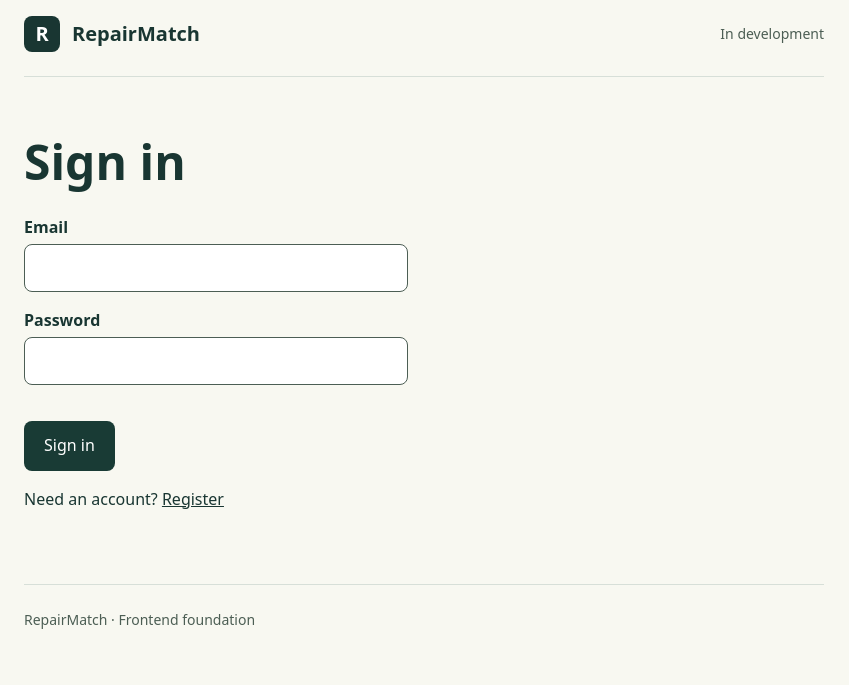
Test: login form › shows field errors and unknown ones from a 400 response
Type "client@example.test" into the field labelled "Email" at (216, 268), box [24,244,408,292]
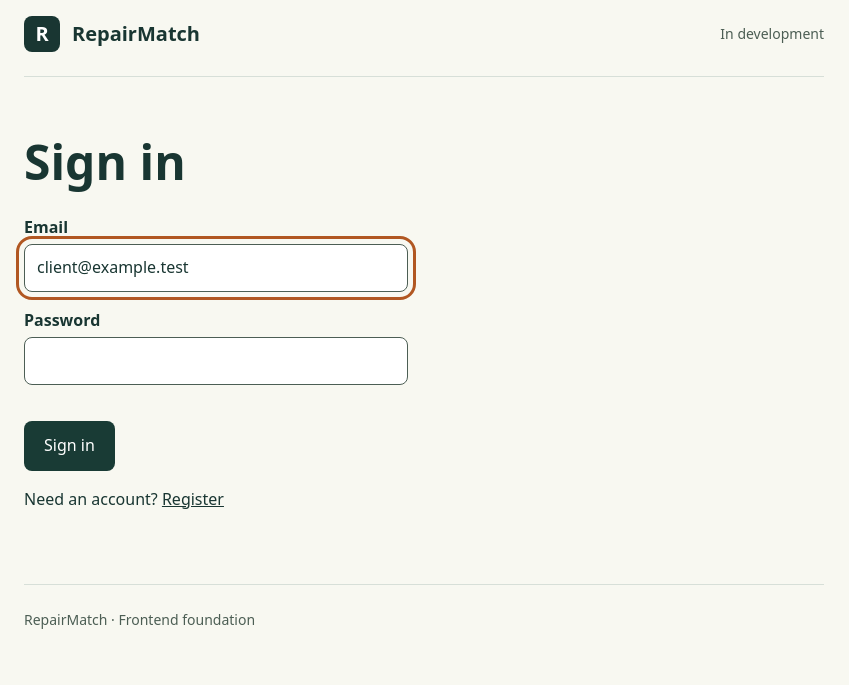
Type "Test-pass-1" into the password field labelled "Password" at (216, 361), box [24,337,408,385]
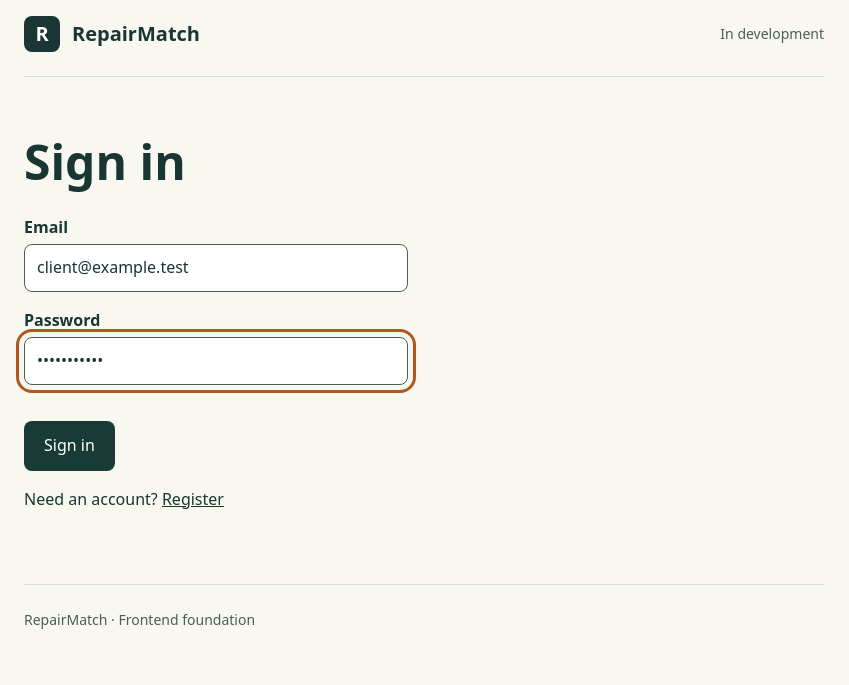
Click the button "Sign in" at (69, 446), box [24,421,115,471]
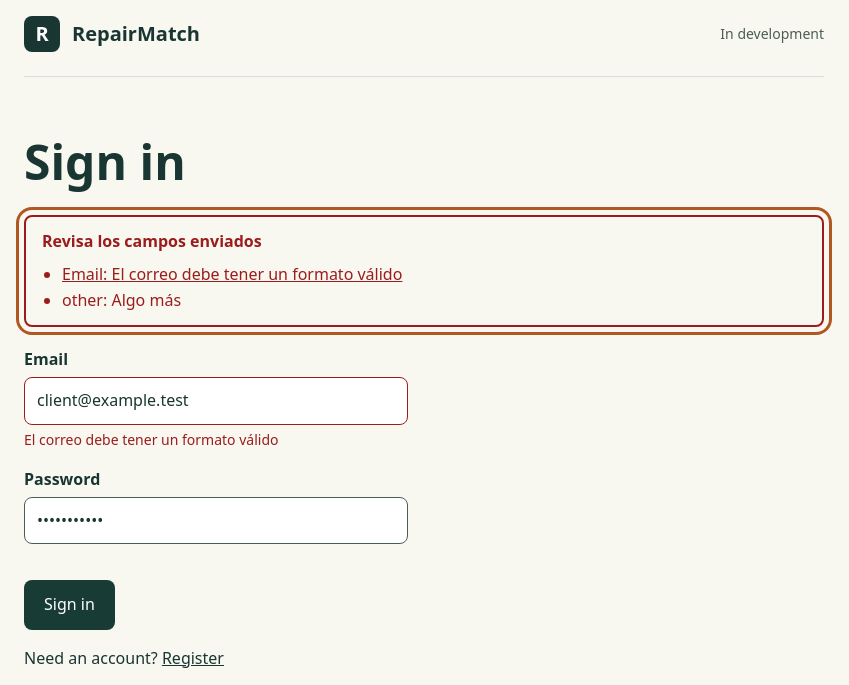
Result: the message shows "Revisa los campos enviados" at [42,230,262,252]
Result: the message shows "Email: El correo debe tener un formato válido" at [62,263,402,285]
Result: the message shows "other: Algo más" at [62,289,181,311]
